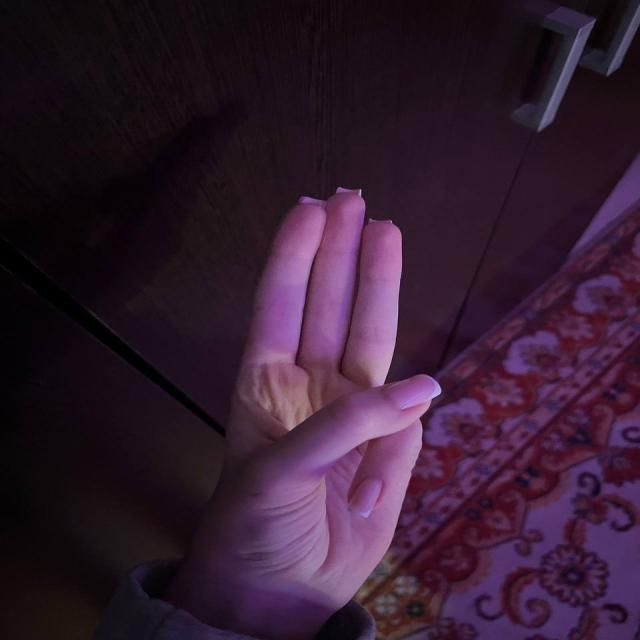sh: (213, 178, 460, 598)
